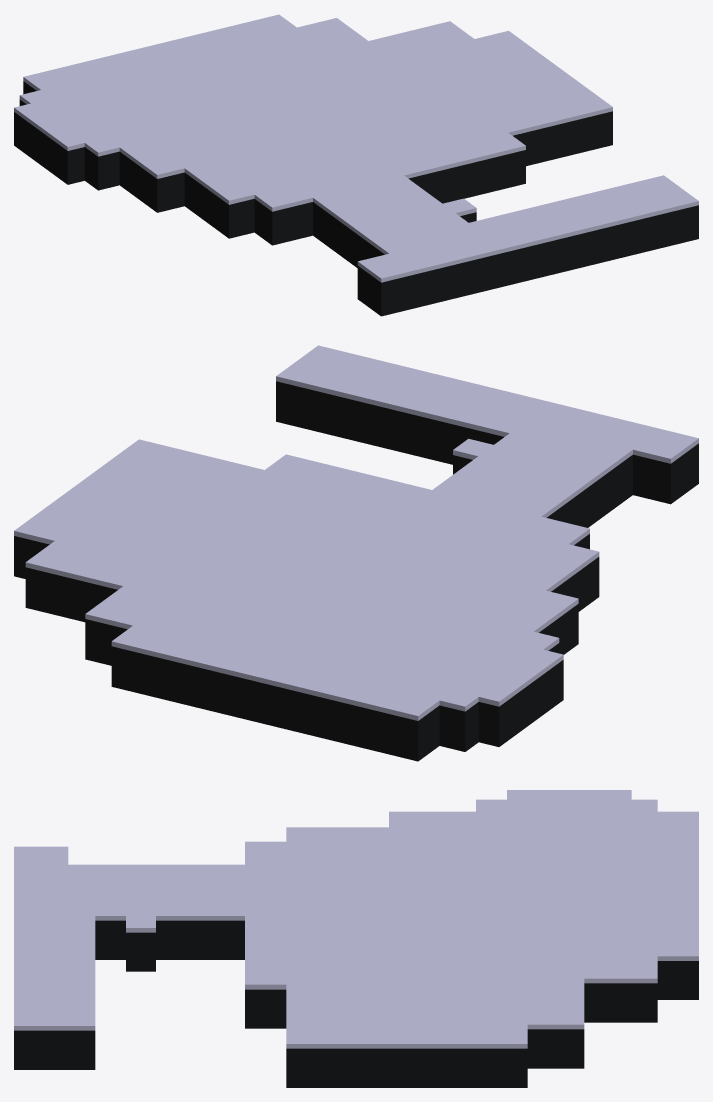
File: nivel 2 mapa.fbx
The picture shows the model from 3 angles, top to bottom: view 1: azimuth 30°, elevation 25°; view 2: azimuth 150°, elevation 25°; view 3: azimuth 270°, elevation 25°; orthographic projection. The views are drawn at different scales.
Parts seen in each view (by area): view 1: Cube; view 2: Cube; view 3: Cube.
Boxes of the visible parts, <box> form: Cube: <box>14,14,698,316</box>; Cube: <box>14,345,698,761</box>; Cube: <box>14,790,698,1087</box>.
Size of the model in its own units: 358 by 28.87 by 408.
